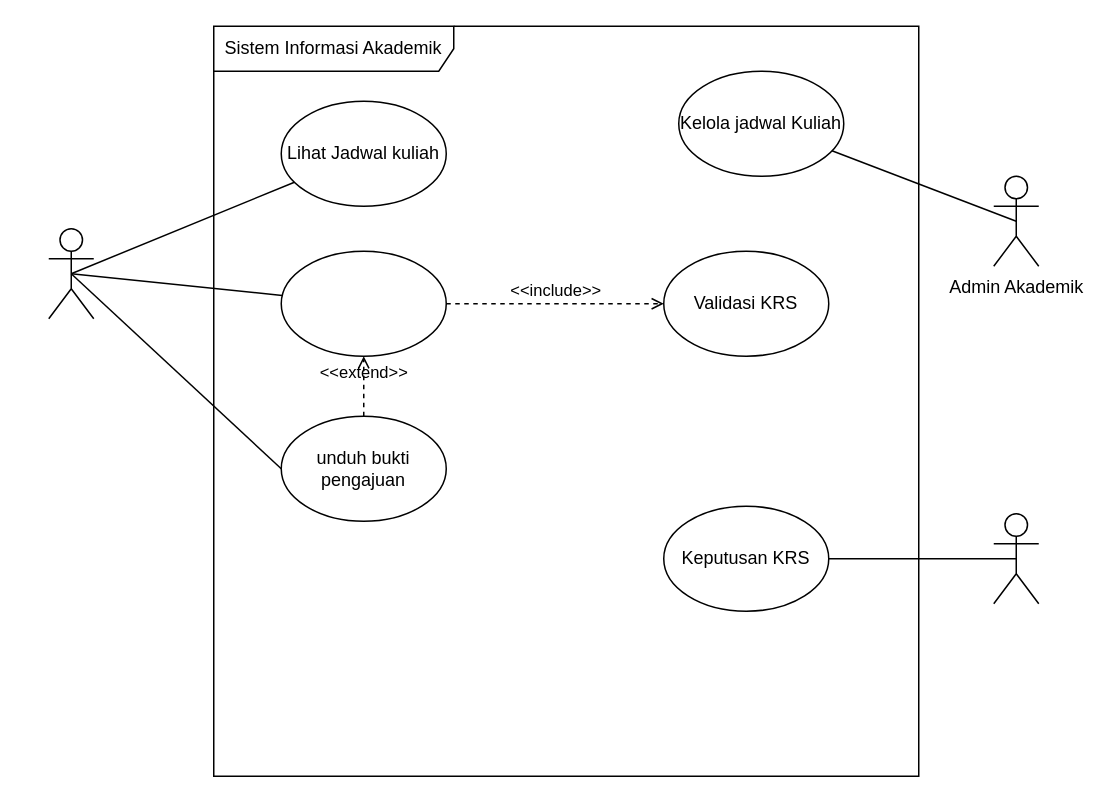
Image size: 1109x803. Some labels were removed from this diagram. The box of each missing label's shape, as (x1, y1, x2, y2) in pixels:
Dosen Wali: (992, 512, 1039, 604)
Mahasiswa: (47, 227, 94, 319)
Mengajukan KRS: (280, 250, 446, 356)
